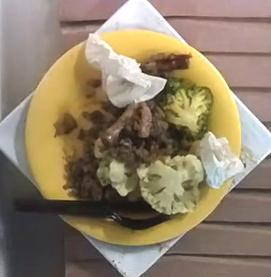beef: (94, 100, 173, 167), (64, 153, 118, 200)
broccoli: (156, 78, 213, 139)
cauliflower: (109, 154, 204, 215)
